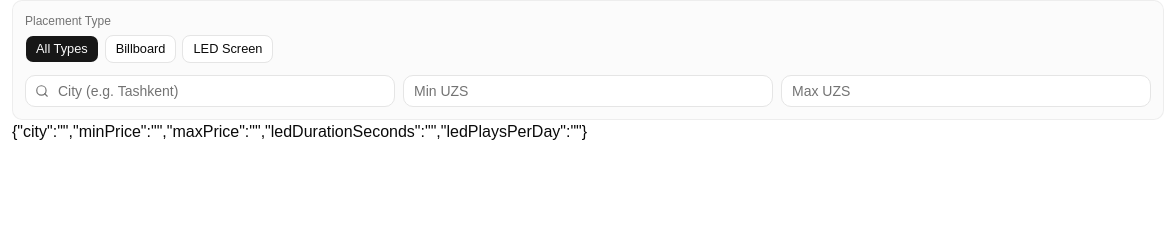
Test: PlacementFilters › shows LED-specific fields only when LED type is selected
The image size is (1164, 243).
Expected: the field with placeholder "LED duration (sec)" is not shown
Expected: the field with placeholder "LED plays/day" is not shown
Step 1. Click the button "LED Screen" → (228, 49), box left=182, top=35, right=274, bottom=63
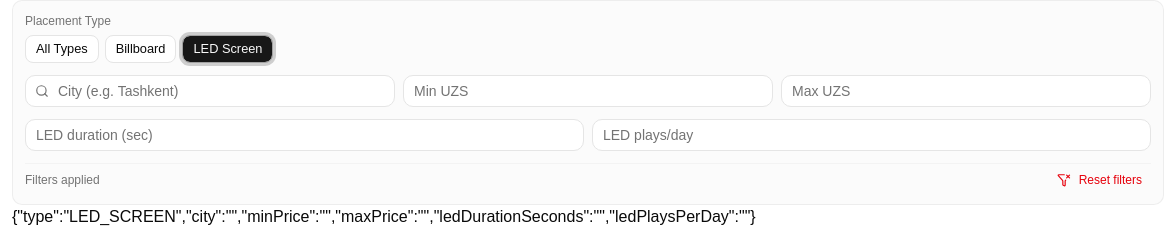
Now the number field with placeholder "LED duration (sec)" is shown, box left=25, top=119, right=584, bottom=151
Now the number field with placeholder "LED plays/day" is shown, box left=592, top=119, right=1151, bottom=151
